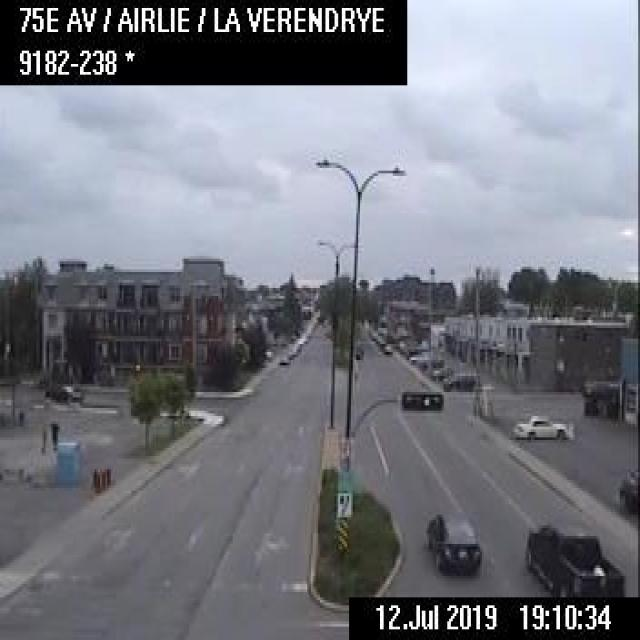construction: (104, 464, 111, 485), (100, 466, 106, 489), (94, 470, 99, 491)
pedestrian: (47, 412, 58, 452)
vehicle: (522, 520, 624, 592), (420, 504, 480, 573), (509, 409, 571, 442), (40, 378, 83, 402), (616, 464, 636, 515), (442, 371, 477, 389), (430, 363, 452, 377), (382, 342, 394, 358), (275, 352, 289, 365)
